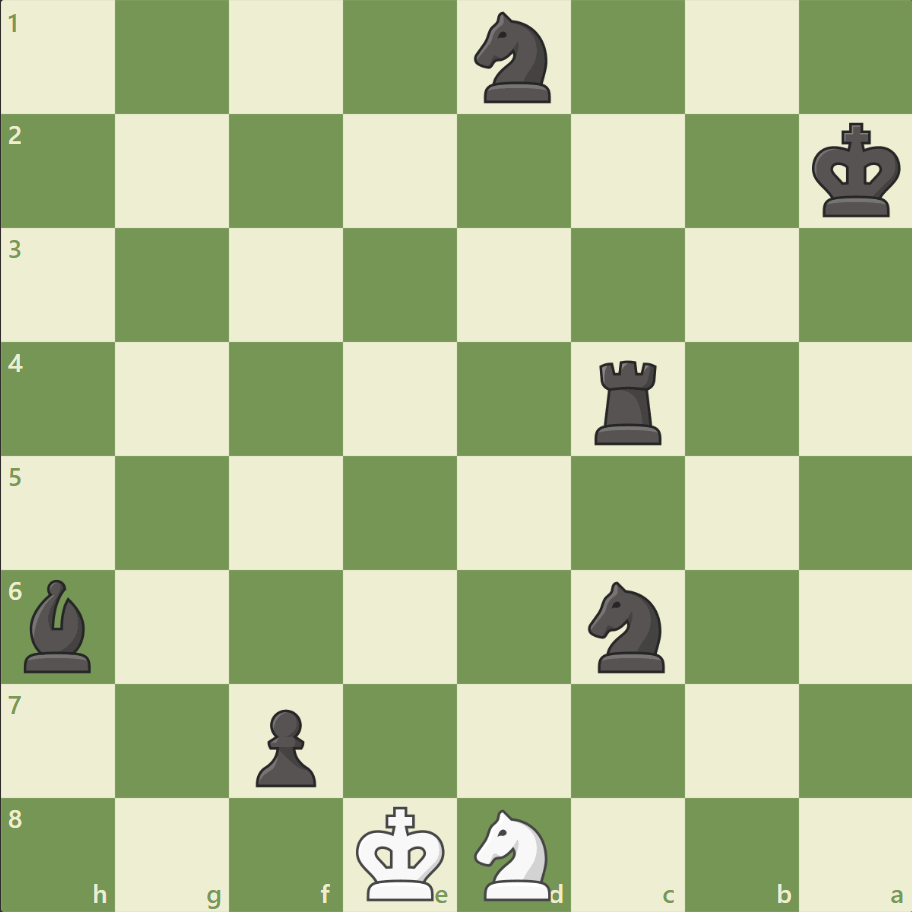K: (351, 798, 451, 906)
N: (465, 802, 562, 904)
b: (17, 574, 101, 676)
k: (806, 117, 906, 225)
n: (465, 7, 562, 110), (579, 575, 676, 677)
p: (247, 700, 322, 791)
r: (587, 352, 670, 449)
